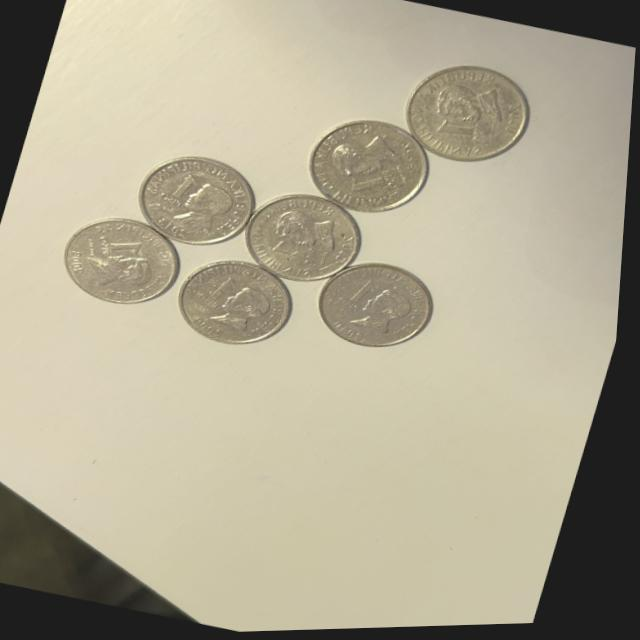1_Old_Front: (432, 110, 495, 153), (91, 226, 150, 268), (265, 232, 330, 270), (349, 160, 406, 203), (331, 273, 381, 318), (200, 267, 247, 312), (161, 169, 204, 210)
